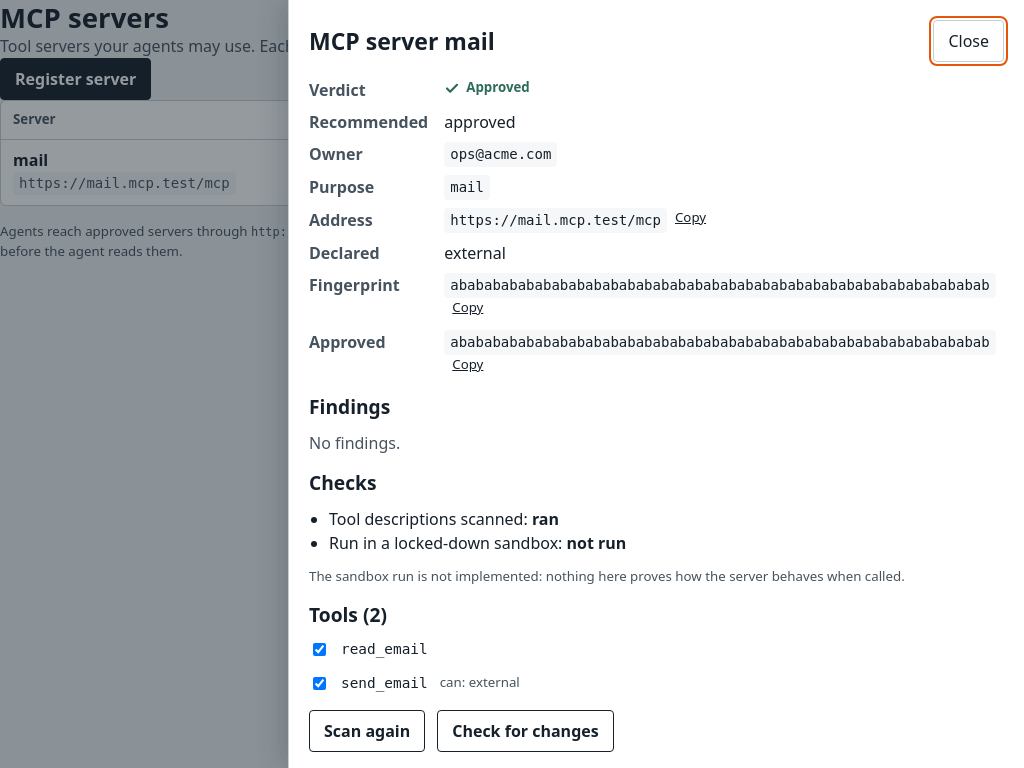
Test: MCP servers › checking for changes reports drift as a warning
Step 1. Click the button "Check for changes" → (525, 731), box [437, 710, 614, 752]
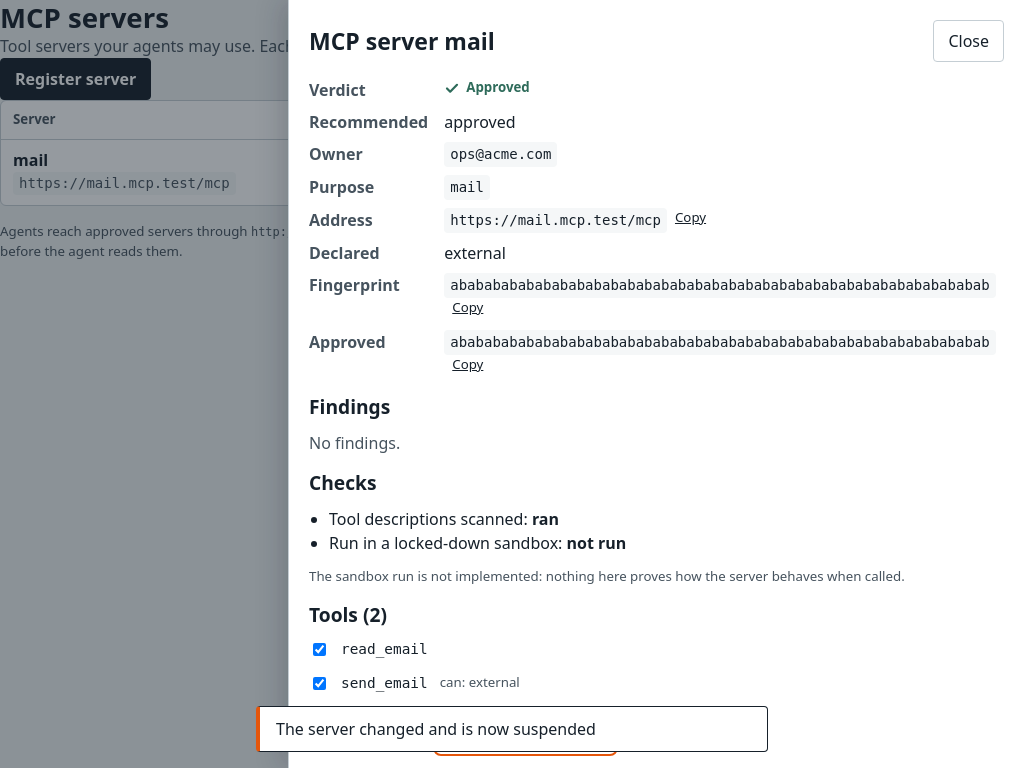
Check: the text "The server changed and is now suspended" is shown, box [256, 706, 768, 752]
